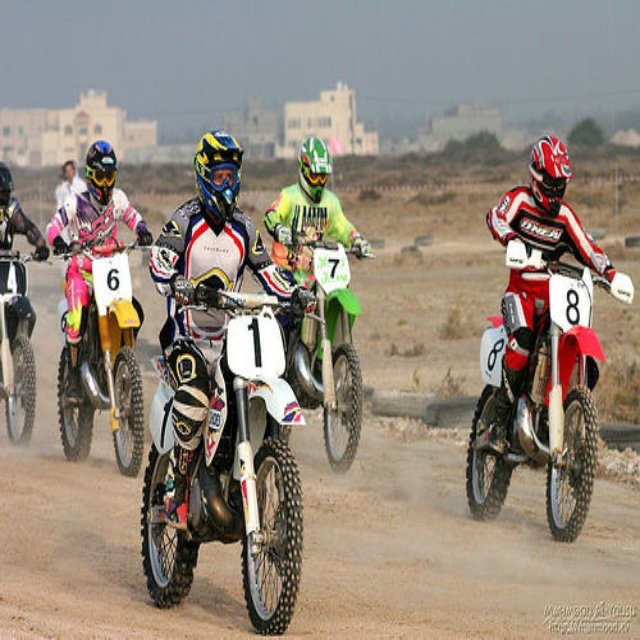Motorcycle: (141, 283, 314, 638), (465, 254, 634, 544), (58, 236, 150, 477), (283, 238, 375, 473), (1, 246, 50, 448)
